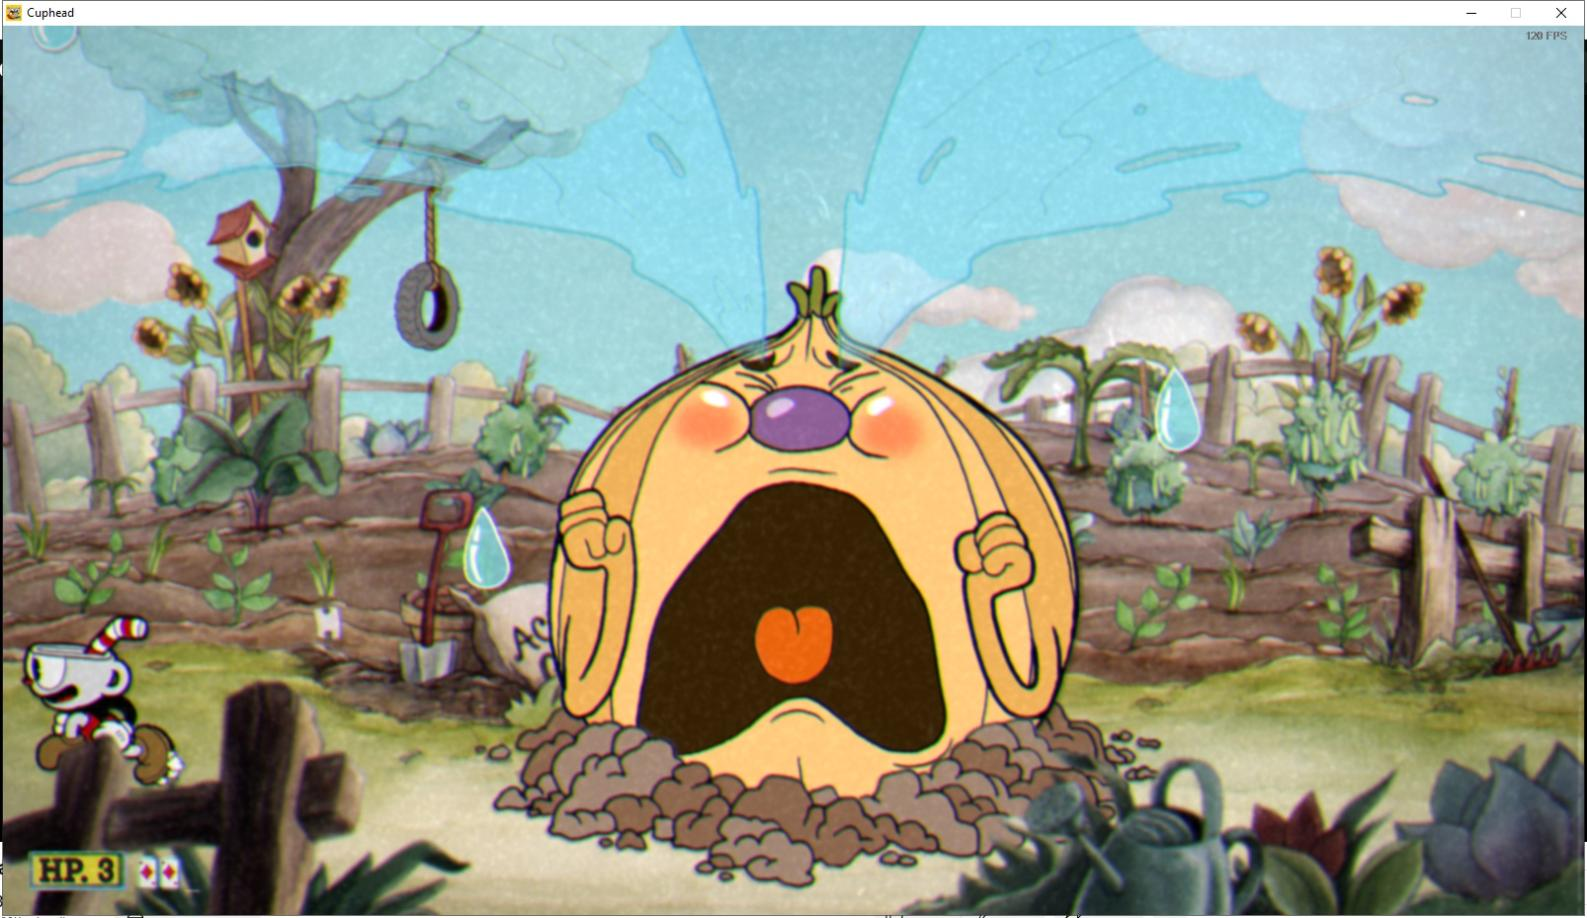hp3: (92, 852, 122, 889)
player: (22, 598, 194, 794)
rain: (1145, 357, 1208, 465), (455, 500, 518, 597)
